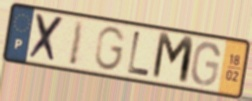G: (93, 25, 128, 73), (189, 40, 222, 88)
I: (67, 17, 87, 68)
L: (126, 29, 153, 78)
M: (150, 30, 197, 88)
X: (27, 11, 66, 65)
